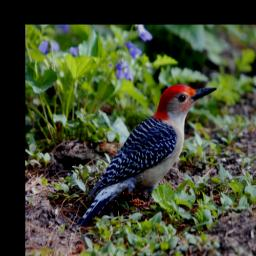Woodpecker: (75, 84, 217, 227)
